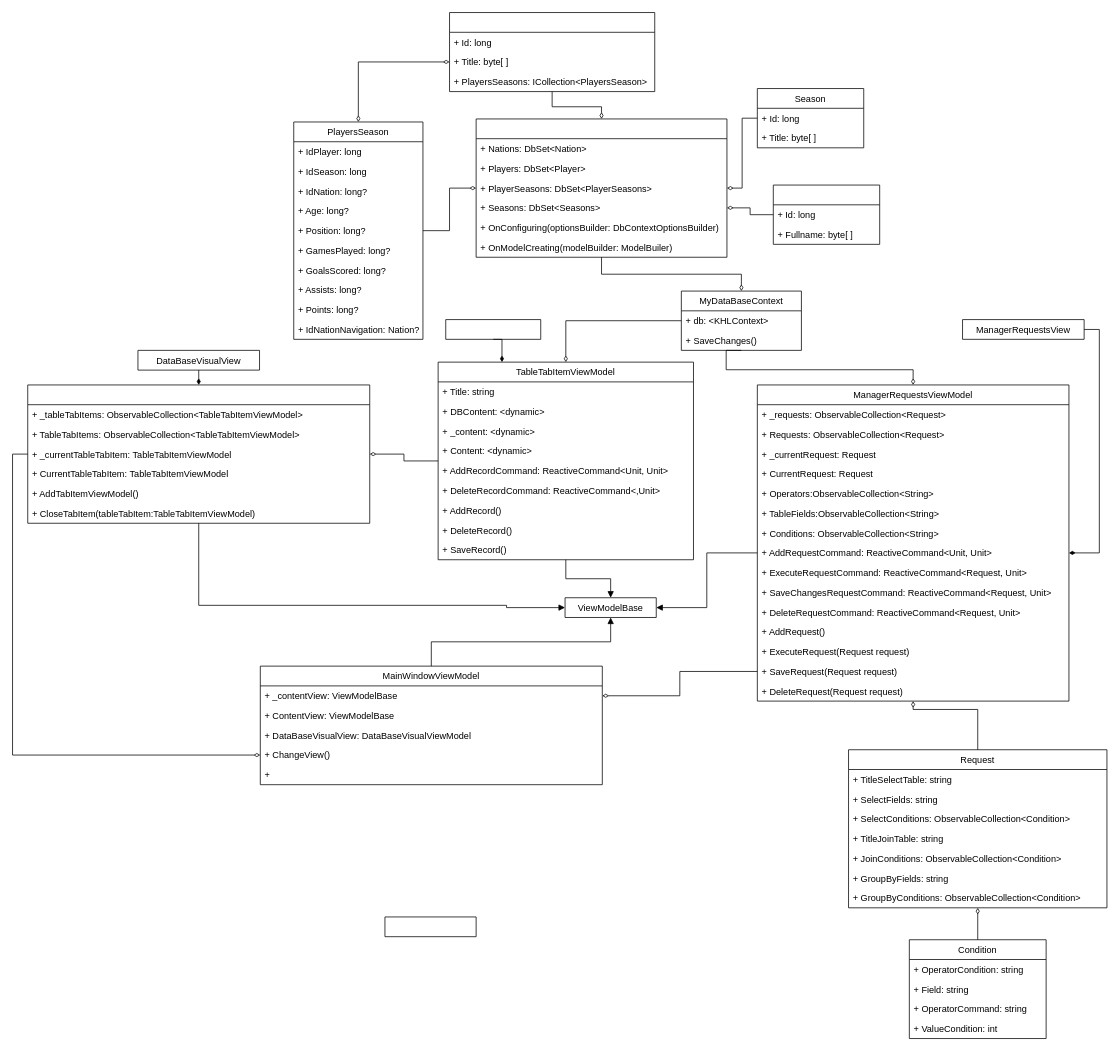
The diagram is 1119 pixels wide and 1051 high, and some of its shapes have lost their labels. The shapes that lost their labels are listed below. From the top down, each one's box as (x1, y1, x2, y2) in pixels, then its label:
(449, 12, 655, 92): Nation
(475, 118, 727, 257): KHLContext
(773, 184, 880, 244): Player
(445, 319, 541, 339): TableTabItemView
(27, 384, 370, 523): DataBaseVisualViewModel
(384, 916, 476, 937): MainWIndowView
